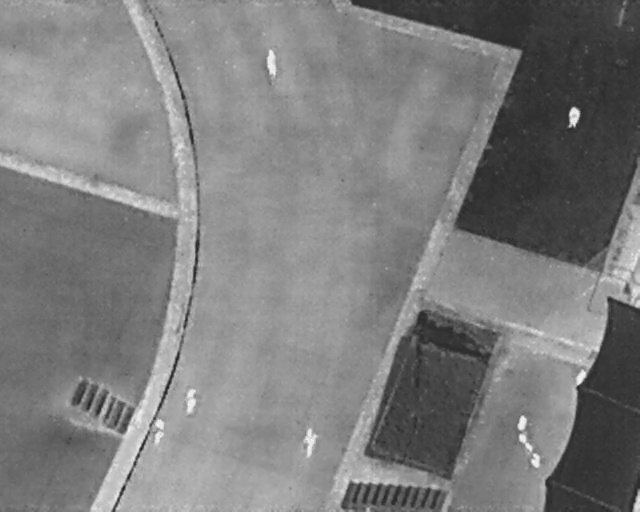Person: (300, 424, 320, 459), (150, 414, 169, 449), (565, 100, 583, 133), (262, 46, 279, 80), (571, 364, 591, 391), (183, 384, 198, 416)
